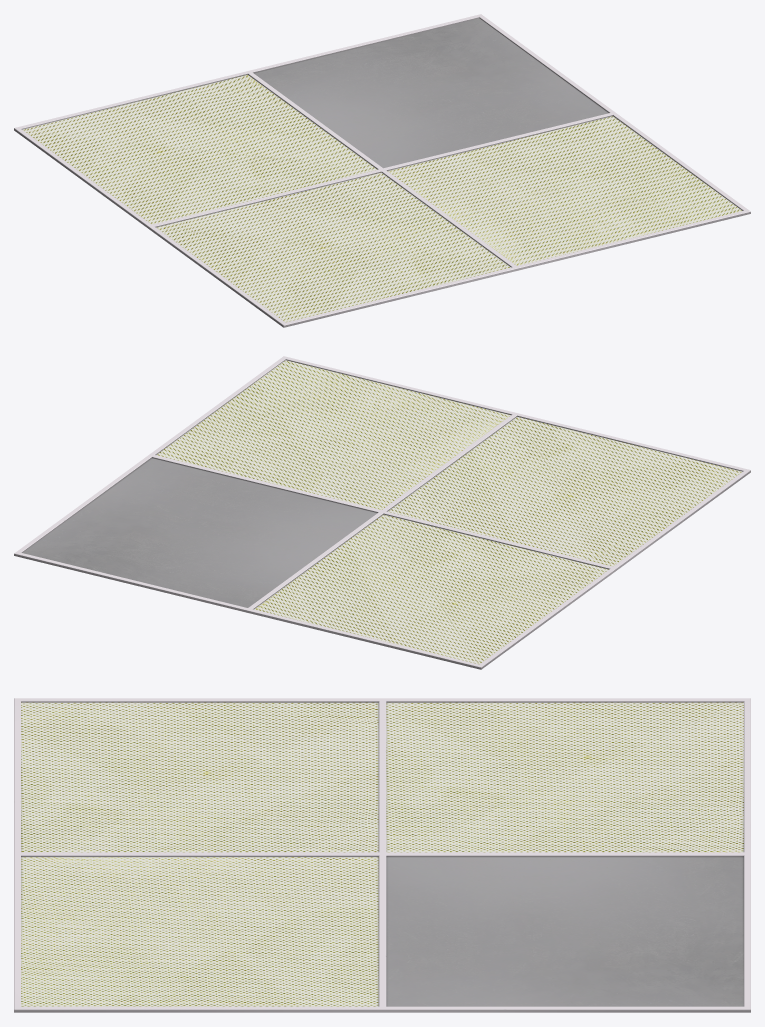
Rendered from video_store_ceiling.fbx.
The picture shows the model from 3 angles, top to bottom: view 1: azimuth 30°, elevation 25°; view 2: azimuth 150°, elevation 25°; view 3: azimuth 270°, elevation 25°; orthographic projection. The views are drawn at different scales.
Parts seen in each view (by area): view 1: Mesh5_Group6_Group1_Model; view 2: Mesh5_Group6_Group1_Model; view 3: Mesh5_Group6_Group1_Model.
Part boxes in pixels (left/top/right/bottom): Mesh5_Group6_Group1_Model: left=14, top=14, right=750, bottom=327; Mesh5_Group6_Group1_Model: left=14, top=356, right=750, bottom=669; Mesh5_Group6_Group1_Model: left=14, top=698, right=750, bottom=1012.
Size of the model in its own units: 200 by 1 by 200.
1 material, 1 textured.
